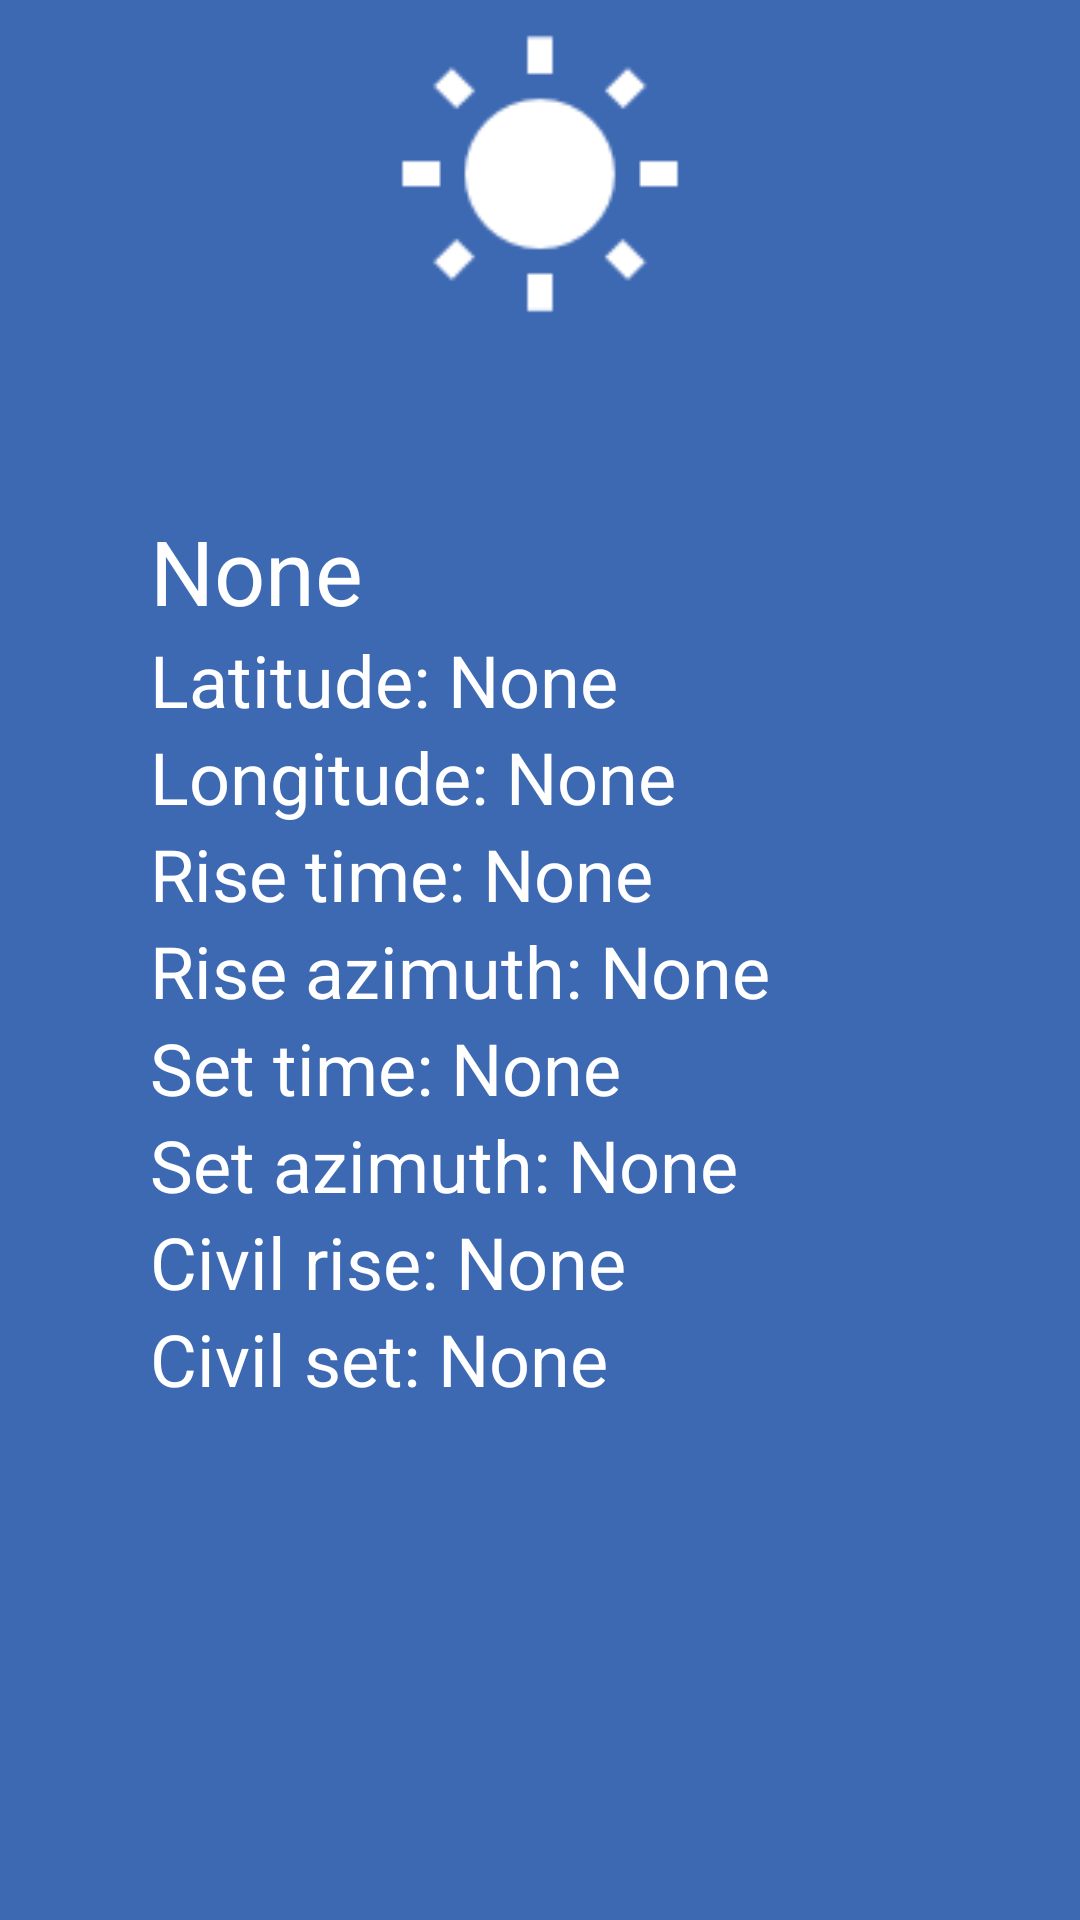

Icons on this 1080 × 1920 Android screen, each with its box as (x1, y1, x2, y2):
Sun: (401, 35, 679, 312)
